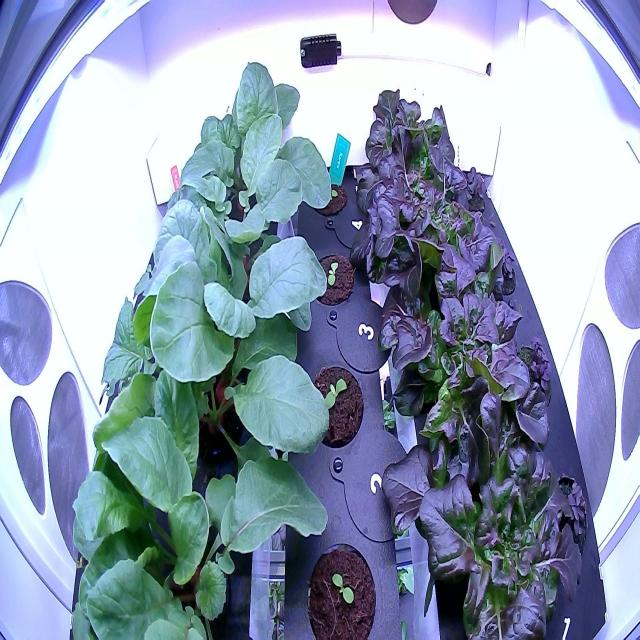germination: (303, 534, 381, 638), (304, 359, 366, 455), (301, 245, 357, 315), (309, 175, 350, 220)
